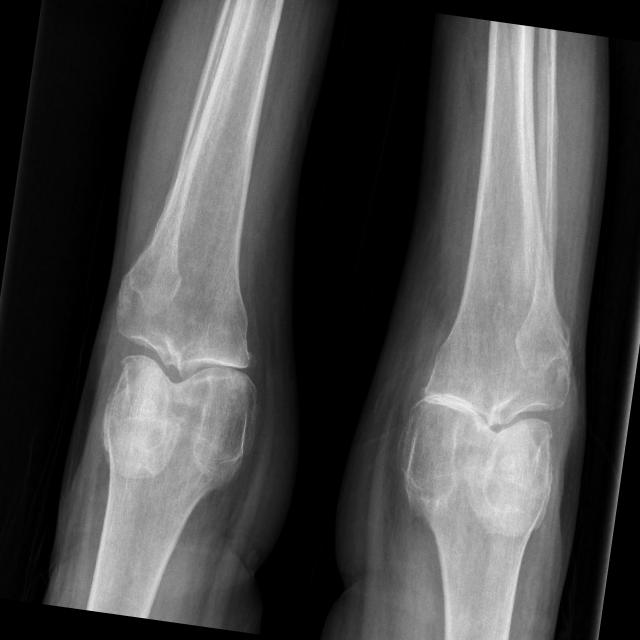Knee: (396, 306, 582, 526), (95, 252, 274, 458)
